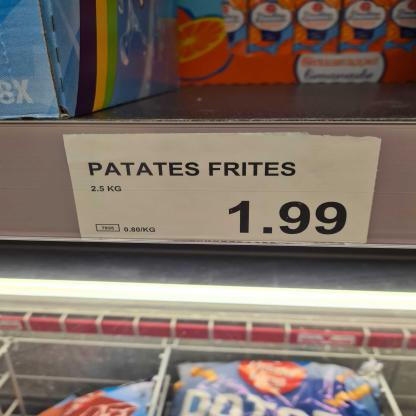prtg: (62, 134, 385, 246)
